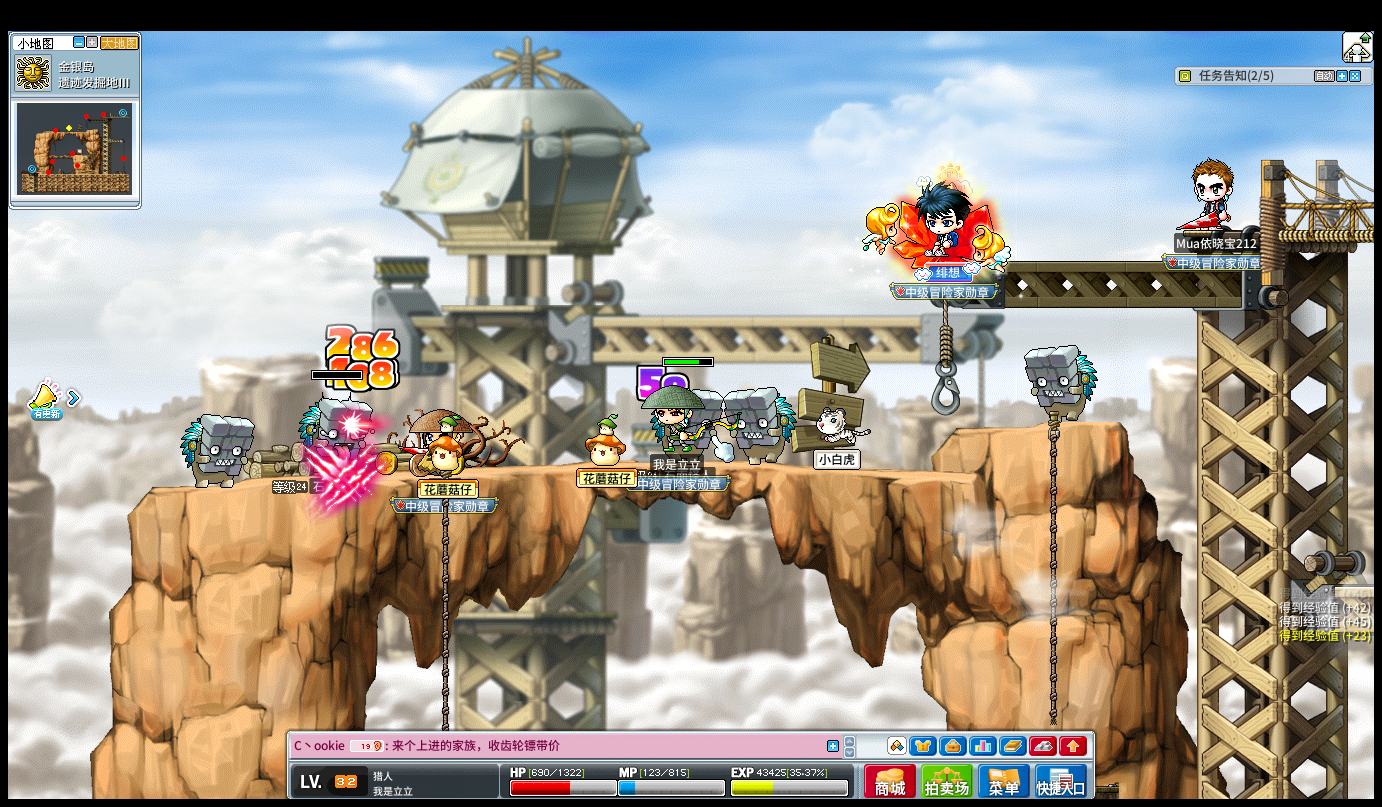floor: (164, 455, 1021, 482), (234, 455, 989, 476), (954, 421, 1134, 435), (962, 417, 1129, 432)
monster: (298, 398, 375, 487), (1023, 343, 1097, 424), (179, 414, 256, 489), (726, 386, 796, 466)
rope: (436, 461, 450, 807), (1045, 406, 1060, 720), (437, 463, 450, 750), (1045, 615, 1058, 716)
